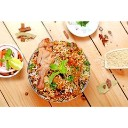briyani: (36, 40, 85, 95)
